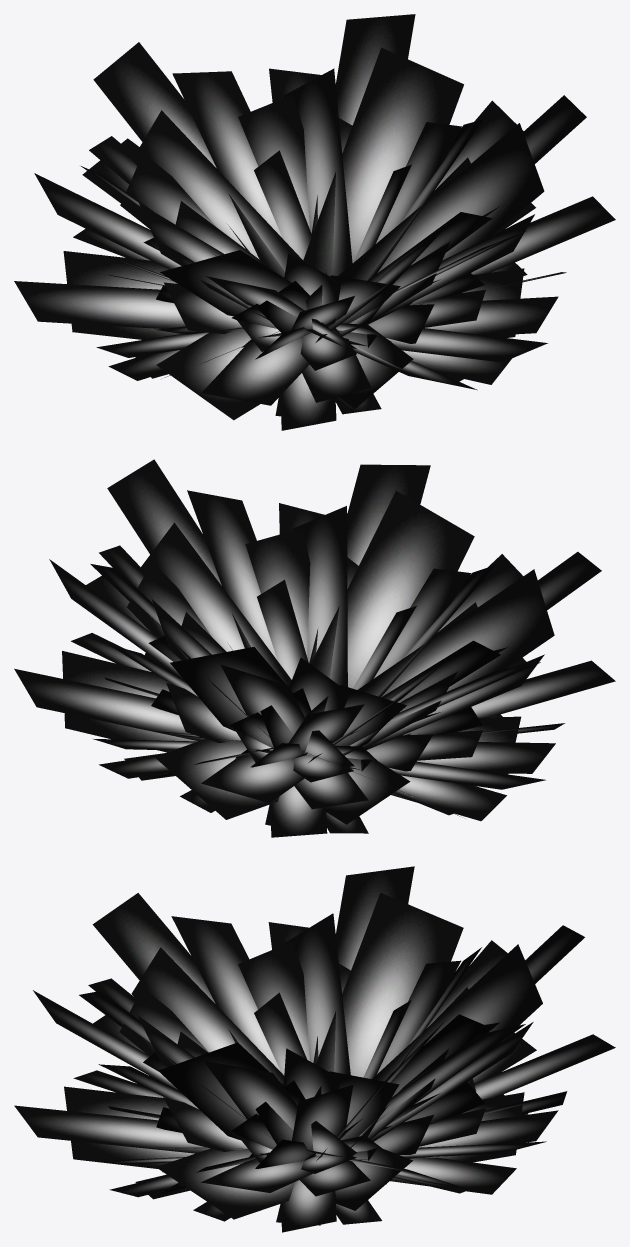
Rendered from vfx_kurp_0116.dae.
3 views of the same model, one above another, from view 1: azimuth 30°, elevation 25°; view 2: azimuth 150°, elevation 25°; view 3: azimuth 270°, elevation 25° (orthographic).
Parts seen in each view (by area): view 1: vfx_kurp_0116; view 2: vfx_kurp_0116; view 3: vfx_kurp_0116.
Part boxes in pixels (x1,y1,x2,y2): vfx_kurp_0116: [14, 14, 615, 430]; vfx_kurp_0116: [14, 459, 615, 837]; vfx_kurp_0116: [14, 866, 615, 1232].
Size of the model in its own units: 13.72 by 14.03 by 6.06.
1 material, 1 textured.
